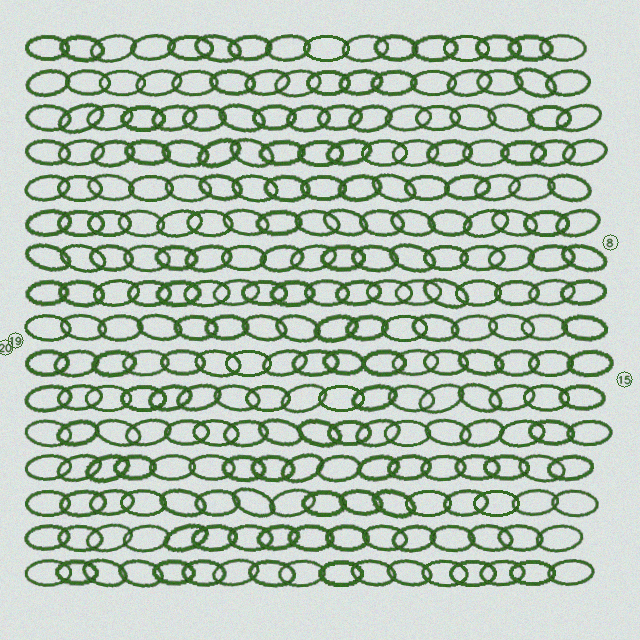chain: (226, 481, 280, 524), (53, 97, 108, 139), (418, 272, 473, 314), (414, 377, 469, 419), (509, 61, 562, 104), (225, 132, 279, 173), (453, 377, 507, 418), (192, 132, 245, 173), (276, 447, 329, 488), (367, 168, 421, 208), (277, 378, 330, 418), (367, 483, 420, 523), (159, 518, 212, 558), (385, 238, 439, 277), (21, 238, 74, 277), (56, 239, 110, 277), (91, 414, 145, 452), (552, 99, 605, 137), (459, 204, 512, 242), (557, 239, 610, 277), (53, 449, 105, 487), (81, 449, 133, 487), (215, 99, 268, 136), (254, 414, 307, 451), (156, 484, 209, 521), (319, 204, 371, 241), (552, 204, 604, 241), (173, 379, 225, 416), (122, 414, 174, 451), (293, 414, 345, 451), (352, 414, 404, 451), (456, 414, 508, 451), (266, 484, 318, 521), (83, 519, 135, 556), (79, 554, 131, 591), (191, 30, 244, 66), (153, 205, 206, 241), (488, 205, 541, 241), (287, 240, 340, 276), (544, 169, 595, 206), (87, 30, 139, 66), (272, 310, 324, 346), (348, 380, 400, 416), (115, 555, 167, 591), (471, 170, 524, 205), (345, 100, 396, 136), (387, 205, 438, 241), (310, 310, 361, 346), (259, 345, 310, 381), (145, 380, 196, 416), (485, 100, 537, 135), (559, 135, 611, 170), (220, 205, 272, 240), (486, 380, 538, 415), (422, 415, 474, 450), (53, 415, 103, 451), (323, 135, 374, 170), (195, 170, 246, 205), (134, 310, 185, 345), (455, 345, 506, 380), (210, 555, 261, 590), (159, 136, 211, 170), (229, 171, 281, 205), (182, 241, 234, 275), (22, 381, 74, 415), (496, 416, 548, 450), (23, 65, 73, 100), (444, 65, 494, 100), (133, 66, 184, 100), (272, 66, 323, 100), (149, 101, 200, 135), (22, 171, 73, 205), (239, 311, 290, 345), (51, 346, 102, 380), (192, 346, 243, 380), (211, 381, 262, 415), (516, 451, 567, 485), (384, 556, 435, 590), (409, 311, 461, 344), (88, 136, 138, 170), (292, 206, 342, 240), (257, 241, 307, 275), (389, 521, 439, 555), (348, 556, 398, 590), (242, 66, 293, 99), (84, 101, 135, 134), (56, 136, 107, 169), (85, 171, 136, 204), (91, 276, 142, 309), (526, 276, 577, 309), (58, 311, 109, 344), (354, 451, 403, 485), (336, 66, 386, 99), (528, 136, 578, 169), (335, 171, 385, 204), (23, 206, 73, 239), (211, 276, 261, 309), (486, 311, 536, 344), (336, 486, 386, 519), (465, 521, 515, 554), (349, 242, 400, 274), (57, 487, 108, 519), (121, 522, 172, 554), (534, 522, 585, 554), (246, 557, 297, 589), (128, 31, 177, 64), (87, 486, 136, 519), (254, 521, 303, 554), (340, 32, 390, 64), (383, 102, 433, 134), (163, 172, 213, 204), (116, 207, 166, 239), (486, 242, 536, 274), (56, 277, 106, 309), (333, 277, 383, 309), (449, 312, 499, 344), (559, 312, 609, 344), (386, 382, 436, 414), (23, 417, 73, 449), (221, 417, 271, 449), (314, 452, 364, 484), (545, 452, 595, 484), (390, 137, 441, 168), (57, 32, 106, 64), (284, 102, 333, 134), (89, 347, 138, 379), (360, 522, 409, 554), (263, 32, 313, 63), (207, 67, 257, 98), (315, 102, 365, 133), (23, 137, 73, 168), (122, 137, 172, 168), (424, 137, 474, 168), (442, 172, 492, 203), (357, 207, 407, 238), (526, 242, 576, 273), (558, 277, 608, 308), (23, 312, 73, 343), (290, 347, 340, 378), (390, 347, 440, 378), (191, 417, 241, 448), (526, 417, 576, 448), (23, 452, 73, 483), (510, 487, 560, 518), (189, 522, 239, 553), (343, 312, 391, 344), (543, 67, 592, 98), (448, 102, 497, 133), (507, 172, 556, 203), (87, 242, 136, 273), (55, 382, 104, 413), (385, 452, 434, 483), (441, 487, 490, 518), (23, 522, 72, 553), (546, 557, 595, 588), (170, 68, 220, 98), (185, 208, 235, 238), (182, 278, 232, 308), (277, 558, 327, 588), (420, 558, 470, 588), (372, 32, 420, 63), (24, 102, 72, 133), (426, 207, 474, 238), (320, 347, 368, 378), (496, 522, 544, 553), (410, 33, 459, 63), (369, 68, 418, 98), (257, 138, 306, 168), (262, 173, 311, 203), (254, 208, 303, 238), (122, 243, 171, 273), (121, 348, 170, 378), (565, 348, 614, 378), (565, 418, 614, 448), (419, 453, 468, 483), (550, 488, 599, 518), (56, 523, 105, 553), (478, 558, 527, 588), (475, 68, 525, 97), (226, 33, 274, 63), (458, 243, 506, 273), (154, 278, 202, 308), (268, 278, 316, 308), (172, 313, 220, 343), (220, 453, 268, 483), (249, 453, 297, 483), (428, 523, 476, 553), (538, 33, 587, 62), (360, 138, 409, 167), (461, 138, 510, 167), (454, 278, 503, 307), (96, 313, 145, 342), (557, 383, 606, 412), (148, 453, 197, 482), (187, 453, 236, 482), (453, 453, 502, 482), (193, 488, 242, 517), (226, 523, 275, 552), (286, 523, 335, 552), (153, 243, 200, 273), (24, 278, 71, 308), (474, 33, 522, 62), (506, 33, 554, 62), (303, 278, 351, 307), (365, 278, 413, 307), (394, 278, 442, 307), (203, 313, 251, 342), (520, 313, 568, 342), (159, 348, 207, 377), (493, 348, 541, 377), (522, 383, 570, 412), (482, 453, 530, 482), (119, 488, 167, 517), (24, 558, 72, 587), (180, 558, 228, 587), (409, 69, 458, 97), (56, 209, 105, 237), (380, 314, 429, 342), (84, 384, 133, 412), (383, 419, 432, 447), (404, 489, 453, 517), (472, 489, 521, 517), (448, 559, 497, 587), (64, 68, 111, 97), (181, 103, 228, 132), (251, 103, 298, 132), (319, 243, 366, 272), (24, 348, 71, 377), (360, 348, 407, 377), (422, 348, 469, 377), (163, 418, 210, 447), (324, 523, 371, 552), (166, 34, 214, 62), (302, 34, 350, 62), (442, 34, 490, 62), (98, 69, 146, 97), (414, 104, 462, 132), (296, 139, 344, 167), (499, 139, 547, 167), (127, 174, 175, 202), (299, 174, 347, 202), (403, 174, 451, 202), (522, 209, 570, 237), (422, 244, 470, 272), (240, 279, 288, 307), (493, 279, 541, 307), (224, 349, 272, 377), (527, 349, 575, 377), (119, 384, 167, 412), (244, 384, 292, 412), (317, 384, 365, 412), (24, 489, 72, 517), (508, 559, 556, 587), (112, 453, 158, 482), (54, 558, 100, 587), (151, 558, 197, 587), (24, 34, 71, 62), (305, 69, 352, 97), (119, 104, 166, 132), (526, 104, 573, 132), (56, 174, 103, 202), (86, 209, 133, 237), (220, 244, 267, 272), (126, 279, 173, 307), (326, 419, 373, 447), (300, 489, 347, 517), (317, 559, 364, 587)
noise: (600, 232, 620, 252), (614, 369, 634, 389), (5, 330, 25, 350), (0, 337, 15, 357)
